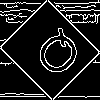Q: (25, 25, 87, 87)
